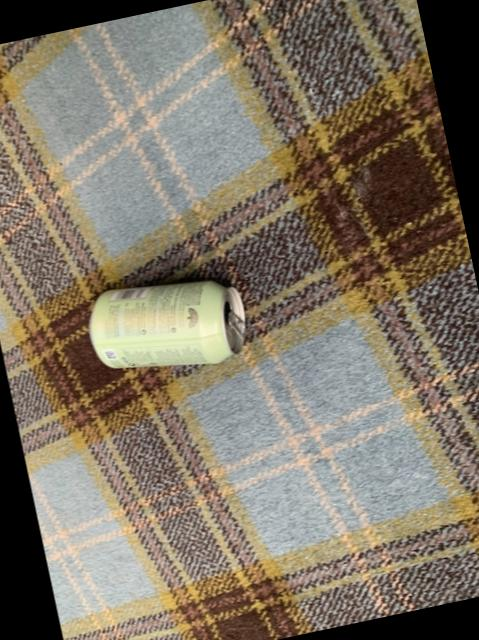metal: (88, 283, 244, 369)
